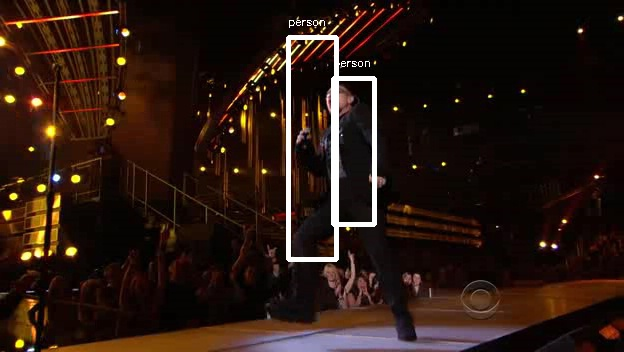person: (301, 82, 384, 235), (298, 82, 381, 235), (304, 82, 387, 235), (301, 79, 384, 232), (301, 85, 384, 238)
target_negative: (329, 74, 441, 298), (263, 181, 569, 226), (432, 137, 510, 273), (196, 307, 378, 325), (602, 177, 608, 260), (603, 269, 618, 288)
